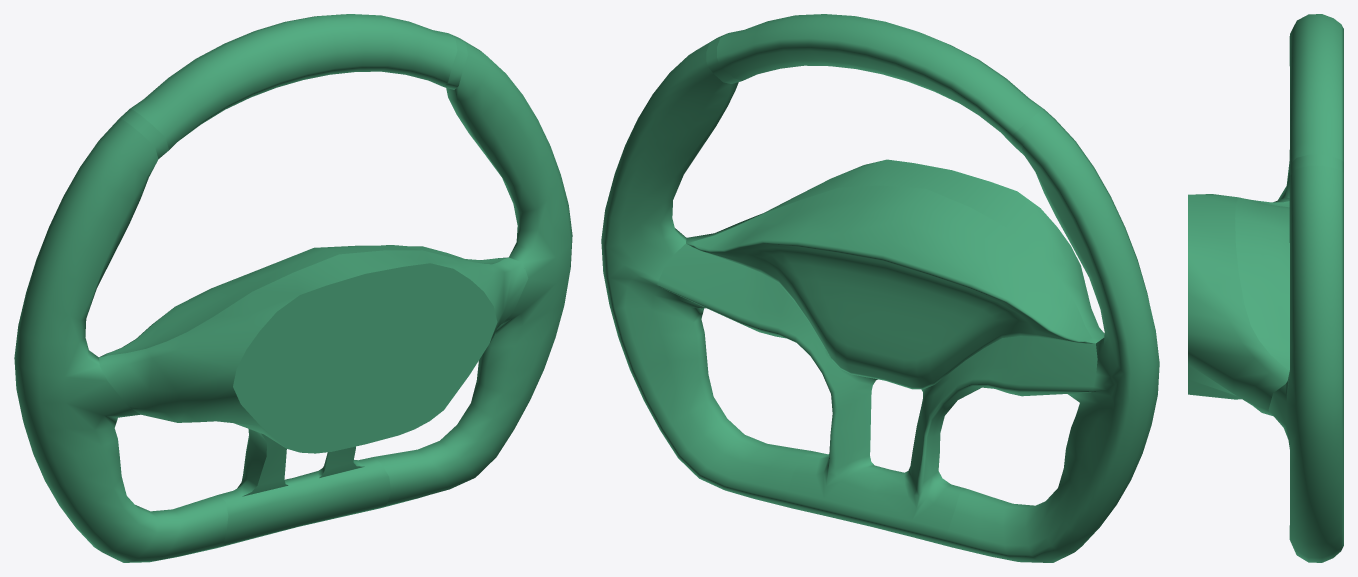
The model's file is CarlaVR_vehicles_SteeringWheel.fbx.
The picture shows the model from 3 angles, left to right: view 1: azimuth 30°, elevation 25°; view 2: azimuth 150°, elevation 25°; view 3: azimuth 270°, elevation 25°; orthographic projection. The views are drawn at different scales.
Parts seen in each view (by area): view 1: vivace_steering_wheel_S; view 2: vivace_steering_wheel_S; view 3: vivace_steering_wheel_S.
Part boxes in pixels (x1,y1,x2,y2): vivace_steering_wheel_S: (14,14,572,562); vivace_steering_wheel_S: (601,14,1159,562); vivace_steering_wheel_S: (1188,14,1343,562).
Size of the model in its own units: 3645 by 3179 by 991.
